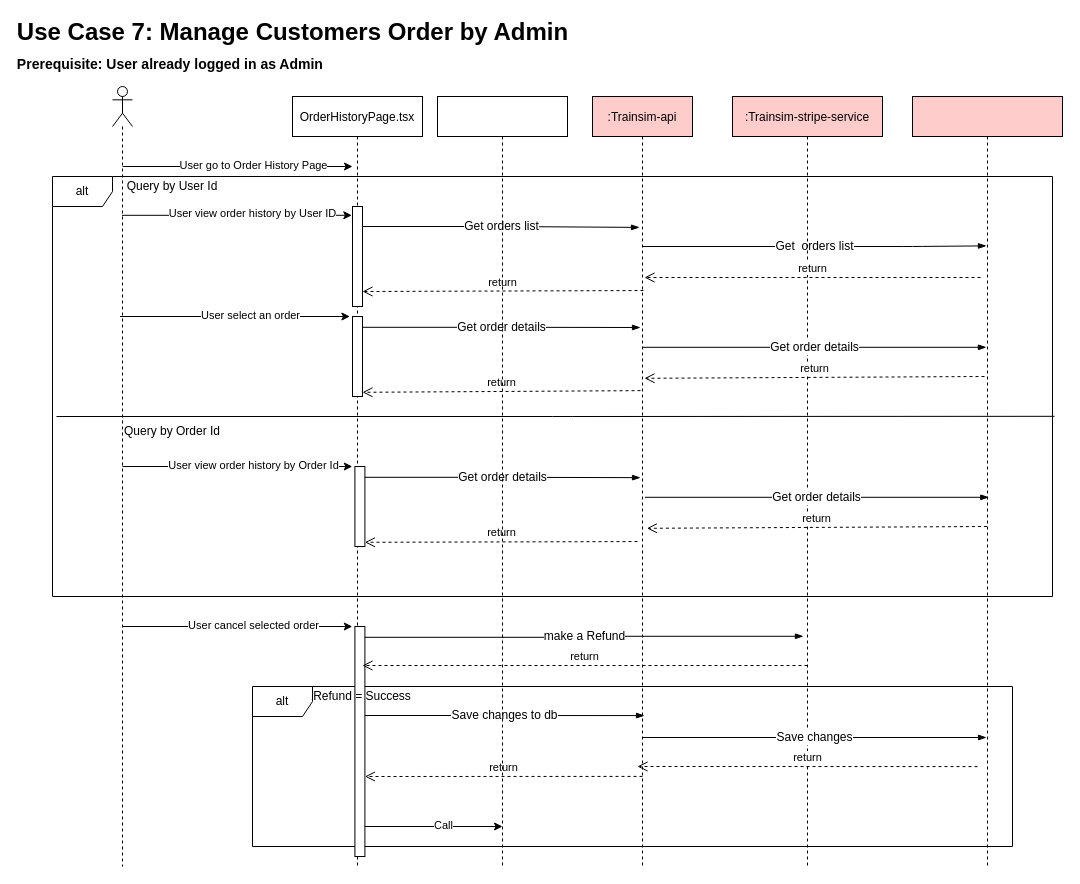
The diagram is 1080 pixels wide and 884 high, and some of its shapes have lost their labels. Here are the shapes that lost their labels. From the top down, the box of each, then its label:
(112, 86, 132, 866): Admin
(436, 96, 568, 866): ConfirmationPage.tsx
(912, 96, 1062, 866): :Trainsim-db
